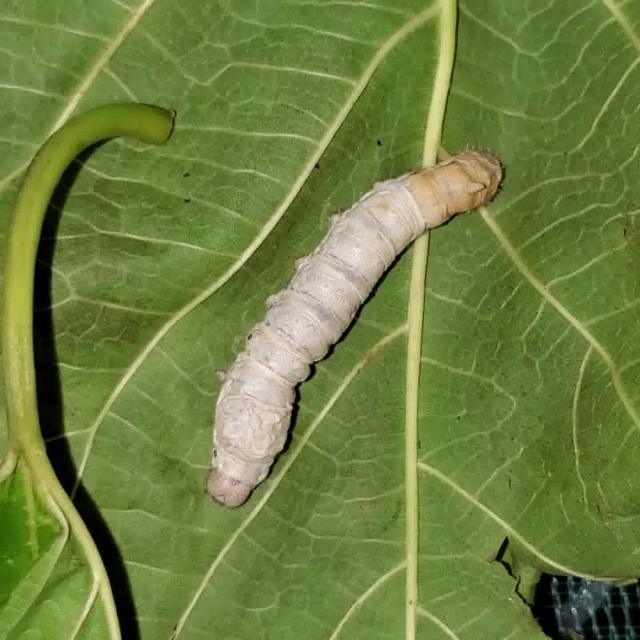Grasserie: (187, 119, 513, 515)
